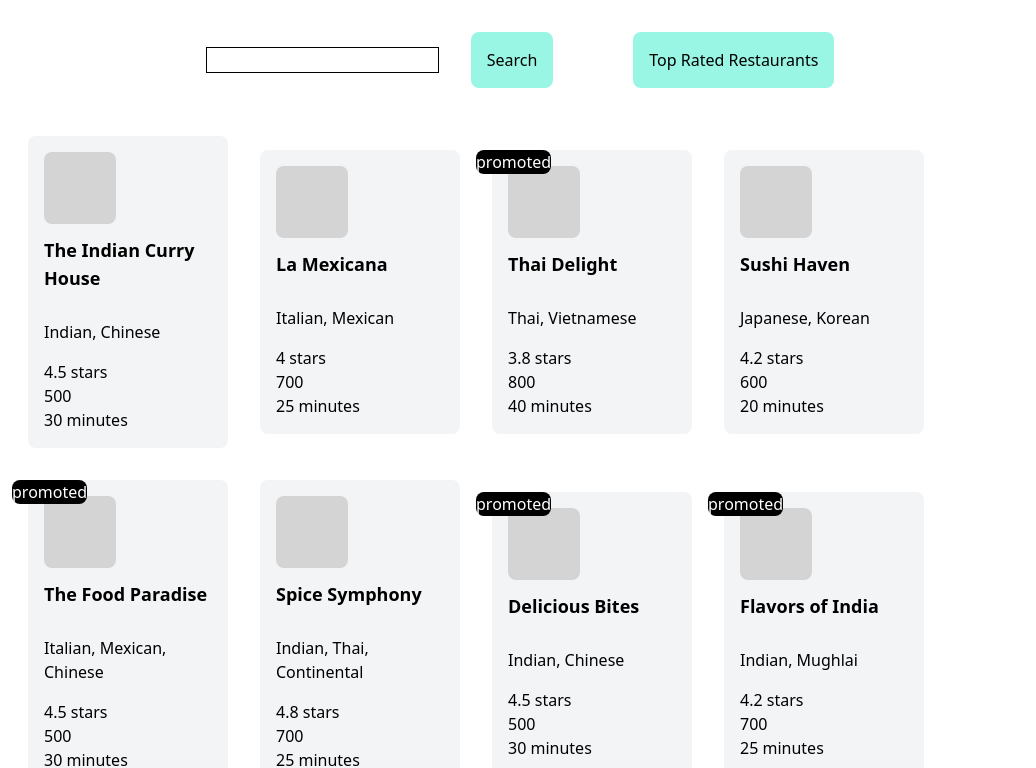
Scenario: should filter top rated resturant in the reslist
# click topRatedButton
Click the button "Top Rated Restaurants" at coordinates (734, 60), box x1=633 y1=32 x2=834 y2=88
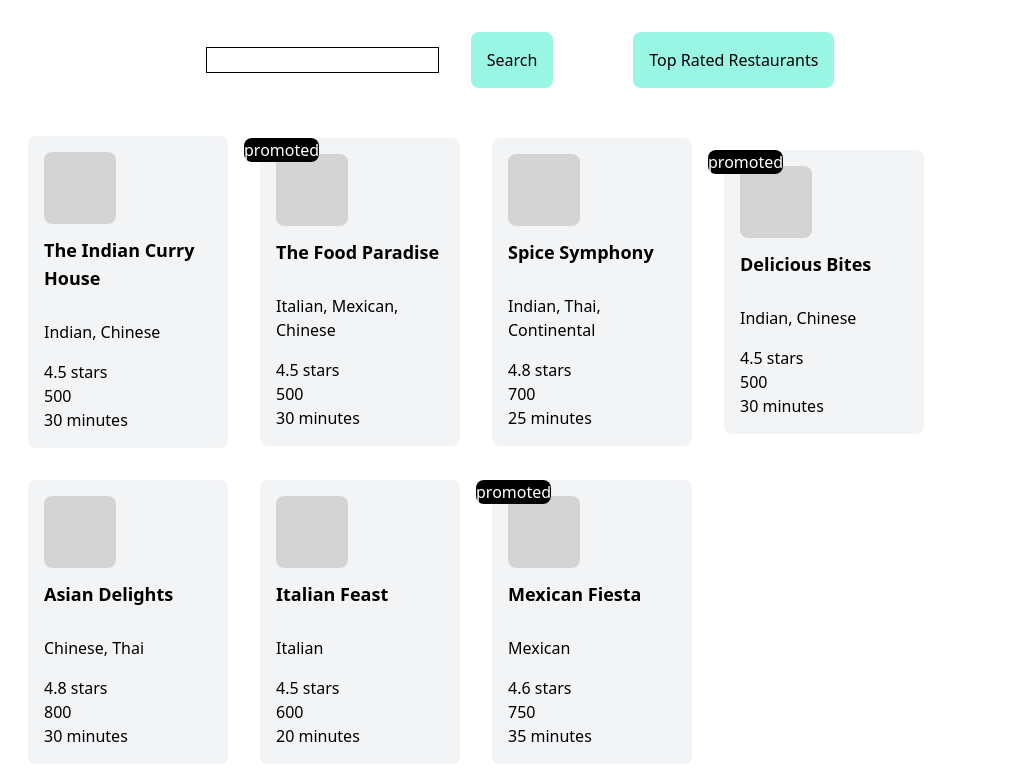
Check: the number of elements with test id "resCard" is 7
